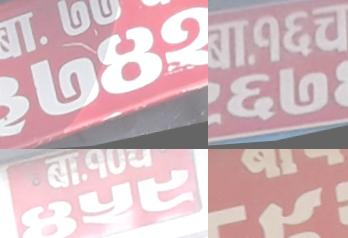0: (0, 12, 40, 65), (103, 149, 129, 181)
1: (157, 4, 208, 78), (248, 12, 284, 70), (82, 149, 111, 186)
2: (325, 169, 348, 238)
4: (16, 195, 82, 238), (327, 51, 348, 117)
5: (95, 25, 167, 103), (74, 181, 139, 238), (291, 149, 348, 181)
6: (221, 67, 279, 131), (277, 7, 317, 67)
7: (27, 50, 105, 125), (272, 57, 334, 125), (54, 0, 93, 42), (84, 0, 125, 32)
8: (208, 195, 262, 238), (129, 0, 175, 15)
9: (251, 184, 334, 238), (132, 166, 198, 224), (208, 75, 228, 138)
ba: (208, 13, 256, 79), (228, 149, 302, 191), (0, 71, 35, 146), (42, 150, 88, 197)
cha: (308, 0, 348, 64), (122, 149, 158, 177)
